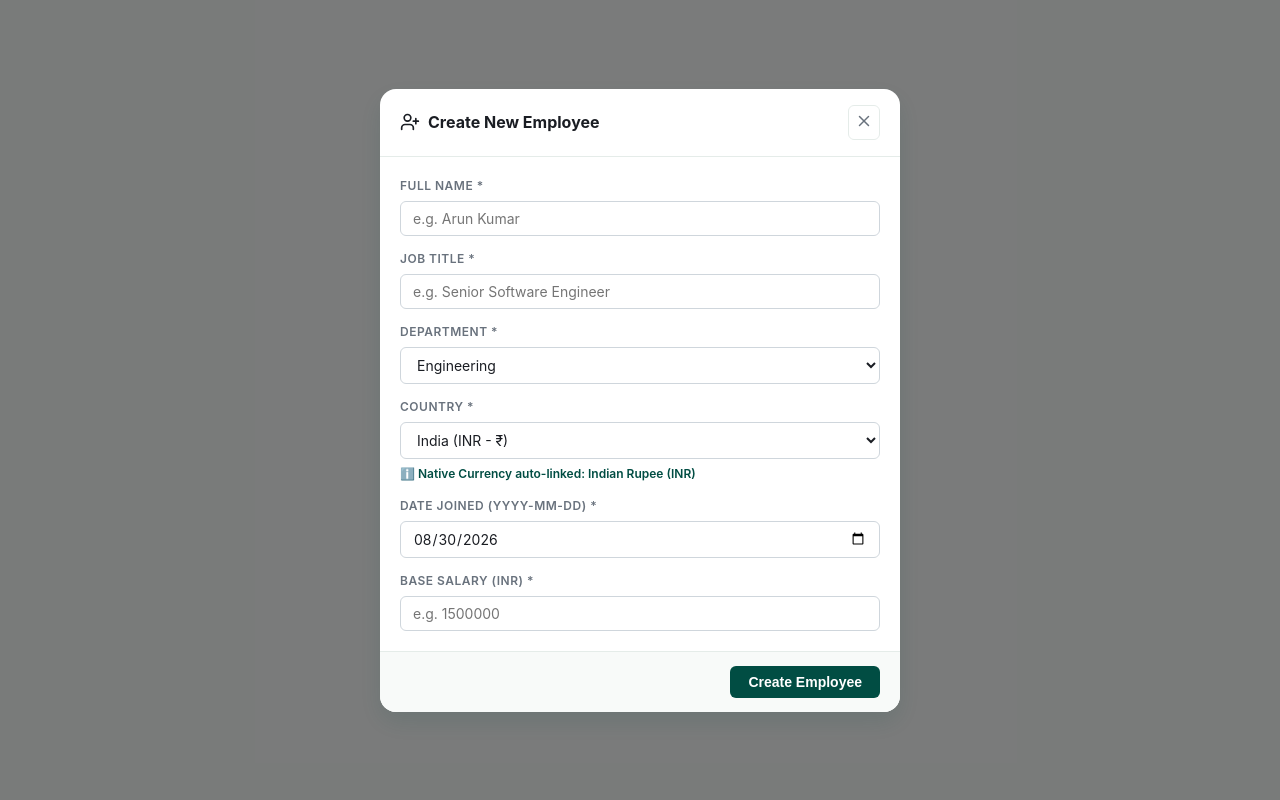
Test: CreateEditEmployeeModal Component › shows validation error messages when submitting empty form
This screenshot has width=1280, height=800.
Click the button "Create Employee" at (805, 682), box [730, 666, 880, 698]
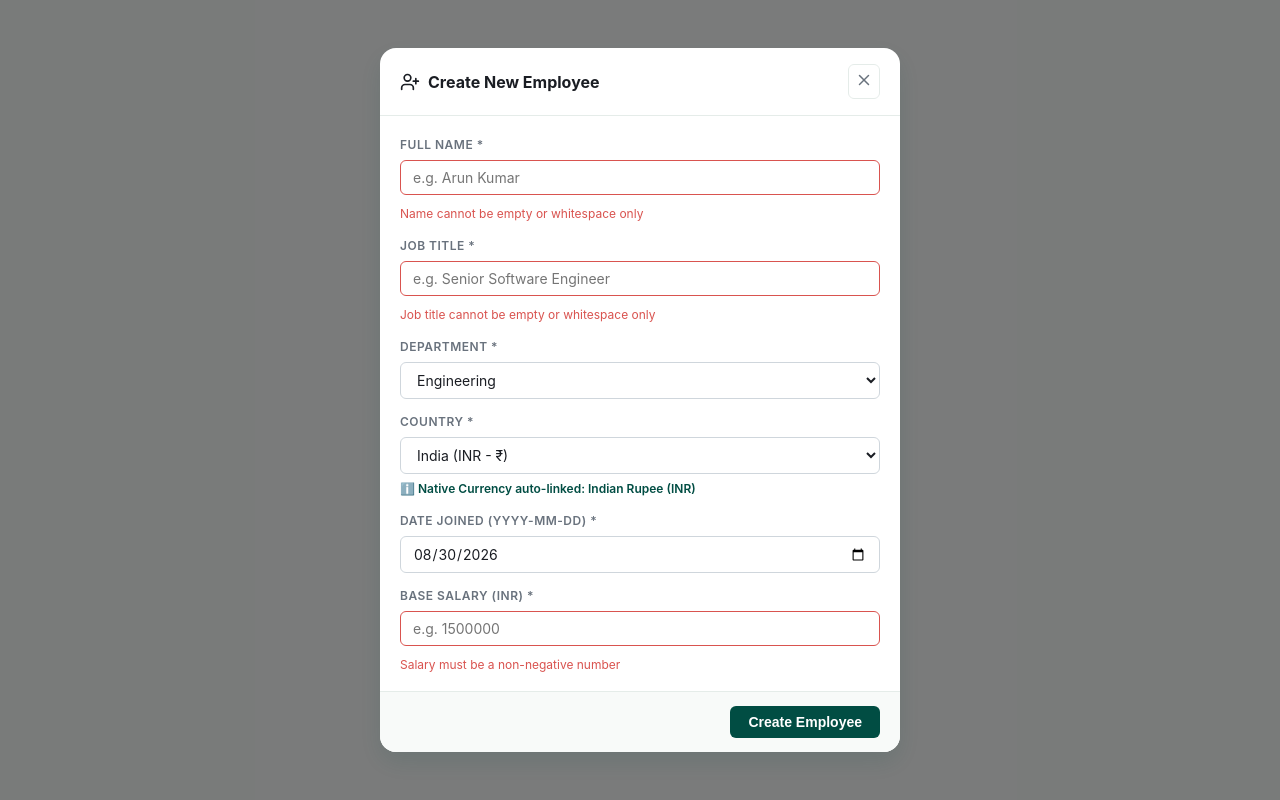
Now the text "Name cannot be empty or whitespace only" is shown, box [400, 206, 643, 221]
Now the text "Job title cannot be empty or whitespace only" is shown, box [400, 307, 656, 322]
